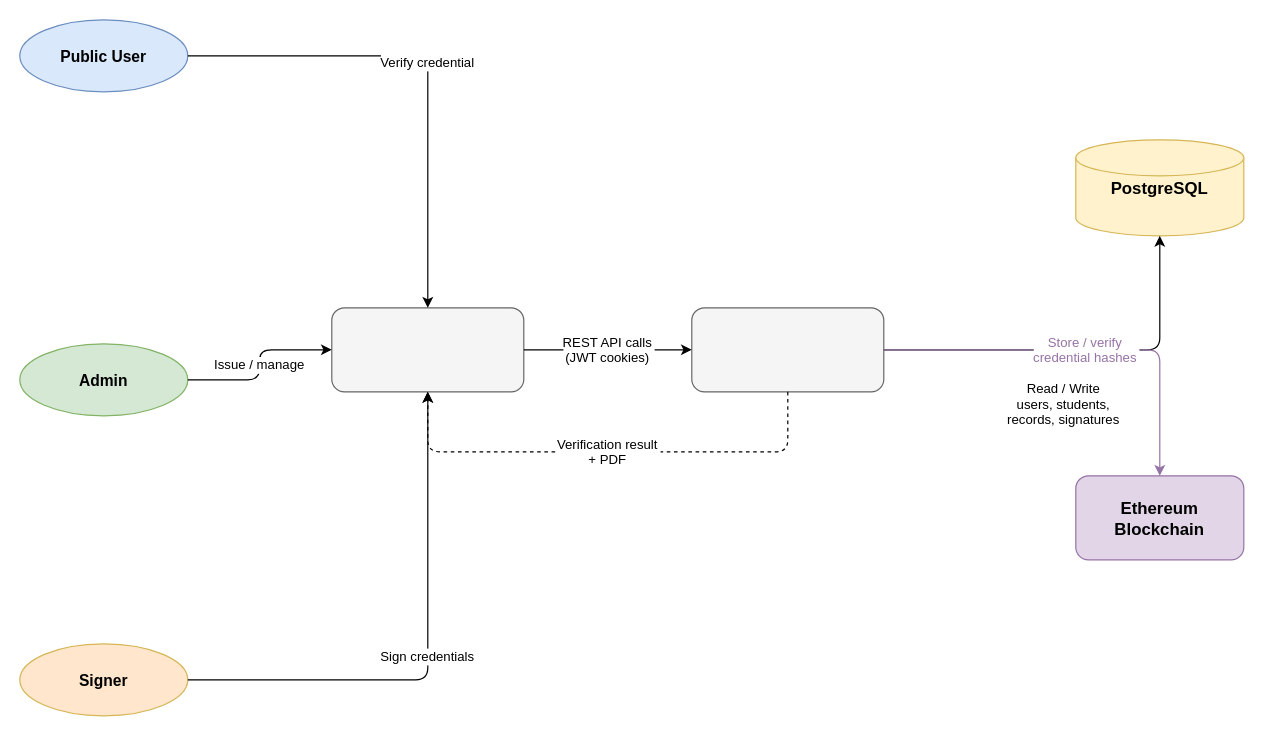
This 1264x736 diagram has some shape labels left out. The shapes that lost their labels are listed below. From the top down, each one's box as (x1, y1, x2, y2) in pixels, then its label:
(331, 307, 524, 392): Frontend (React)
(691, 307, 884, 392): Backend (NestJS API)
